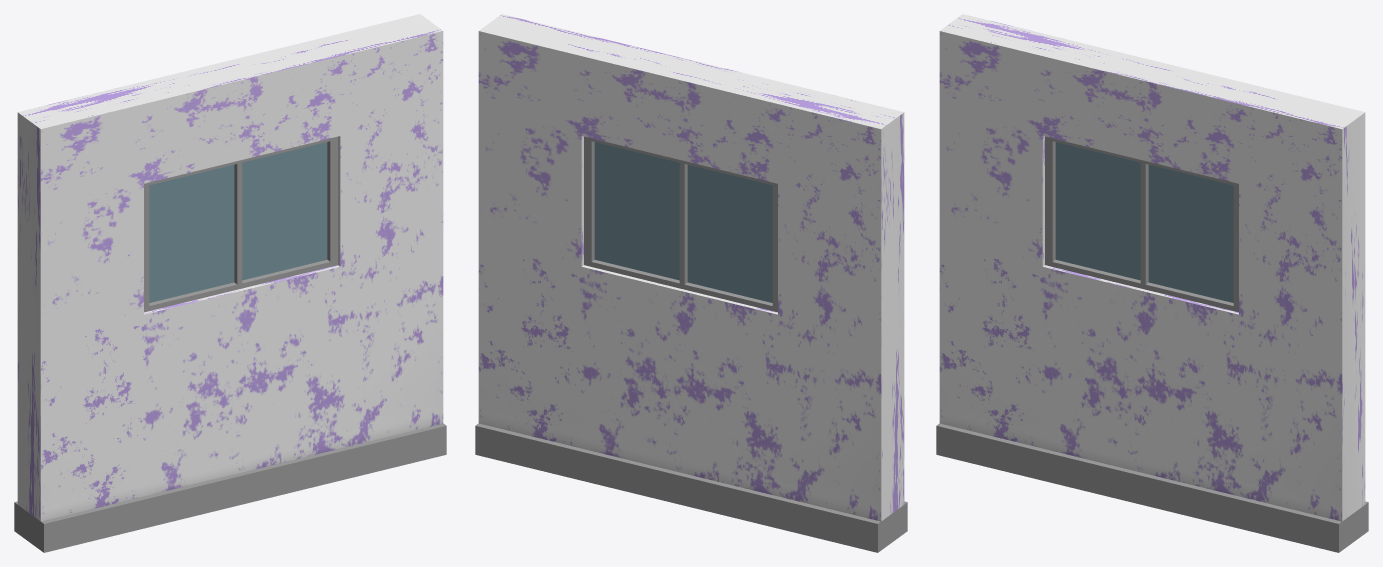
Rendered from Ventana1.fbx.
The picture shows the model from 3 angles, left to right: view 1: azimuth 30°, elevation 25°; view 2: azimuth 150°, elevation 25°; view 3: azimuth 330°, elevation 25°; orthographic projection.
Parts seen in each view (by area): view 1: Ventana; view 2: Ventana; view 3: Ventana.
Boxes of the visible parts, x1,y1,x2,y2 form: Ventana: (14,14,446,552); Ventana: (475,14,907,552); Ventana: (936,14,1368,552).
Bounding box in the file's own units: 200 × 200 × 25.64.
